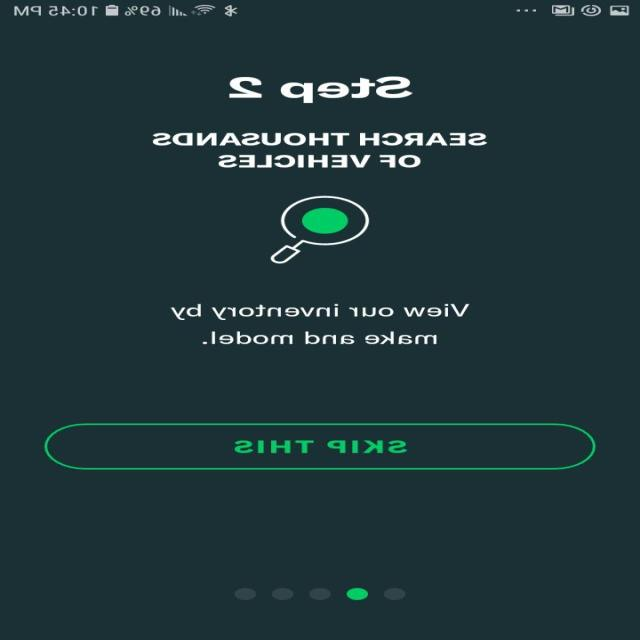Icon: (270, 195, 370, 263)
Text: (170, 303, 470, 344), (153, 132, 488, 168), (230, 76, 413, 103)
TextButton: (44, 422, 596, 470)
